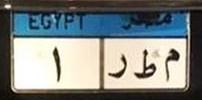1: (53, 44, 63, 82)
Taa: (134, 49, 157, 80)
meem: (161, 47, 181, 81)
raa: (107, 51, 130, 81)
